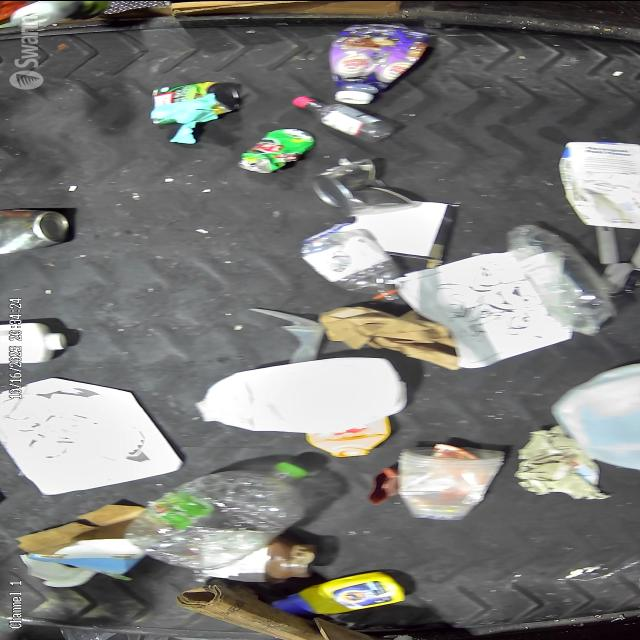can: (310, 156, 414, 212), (233, 127, 314, 178), (0, 207, 79, 257)
milk_jug: (190, 354, 408, 434), (554, 360, 640, 468)
plastic_bottle: (128, 458, 324, 567), (304, 220, 408, 298)
